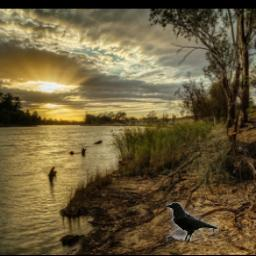Crow: (165, 203, 218, 243)
